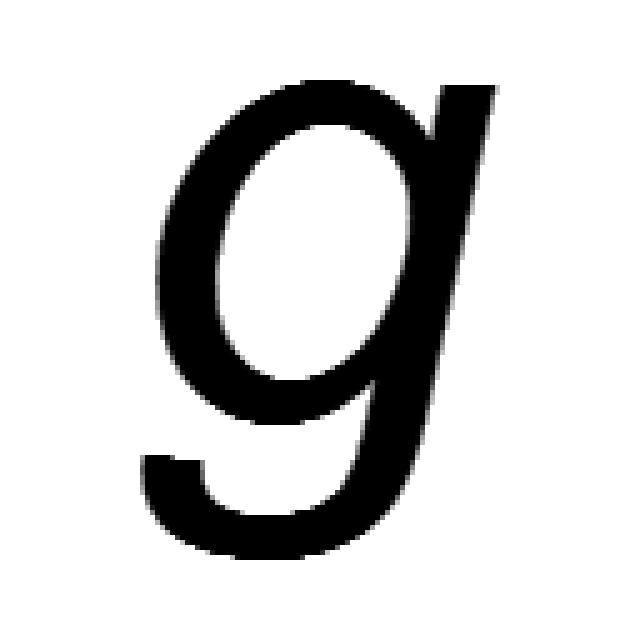G: (130, 65, 505, 565)
